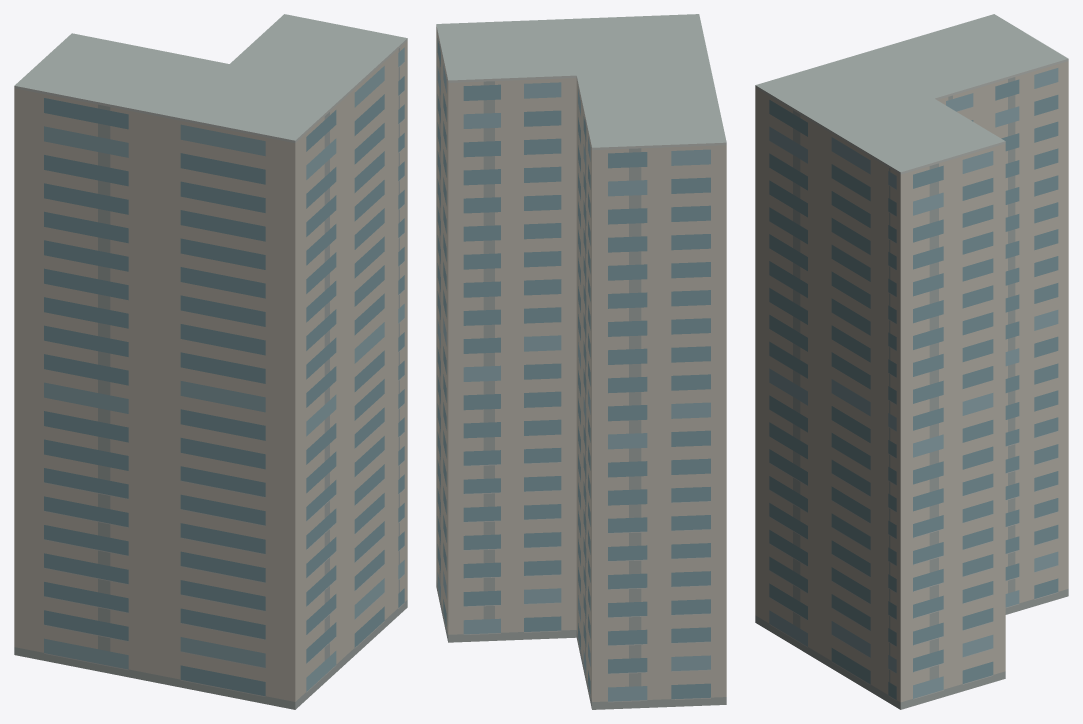
File: residential-5fced36e-0523-412b-a2fc-bbcd972e535d.glb
3 renders of one model, left to right at view 1: azimuth 30°, elevation 25°; view 2: azimuth 150°, elevation 25°; view 3: azimuth 270°, elevation 25°, orthographic. The views are drawn at different scales.
Visible parts, largest first — view 1: residential-5fced36e-0523-412b-a2fc-bbcd972e535d.tmp; view 2: residential-5fced36e-0523-412b-a2fc-bbcd972e535d.tmp; view 3: residential-5fced36e-0523-412b-a2fc-bbcd972e535d.tmp.
Part boxes in pixels (box(x1,y1,x2,y2)): residential-5fced36e-0523-412b-a2fc-bbcd972e535d.tmp: box(14, 14, 407, 709); residential-5fced36e-0523-412b-a2fc-bbcd972e535d.tmp: box(436, 14, 726, 709); residential-5fced36e-0523-412b-a2fc-bbcd972e535d.tmp: box(755, 14, 1068, 709).
Size of the model in its own units: 35.4 by 56 by 29.6.
